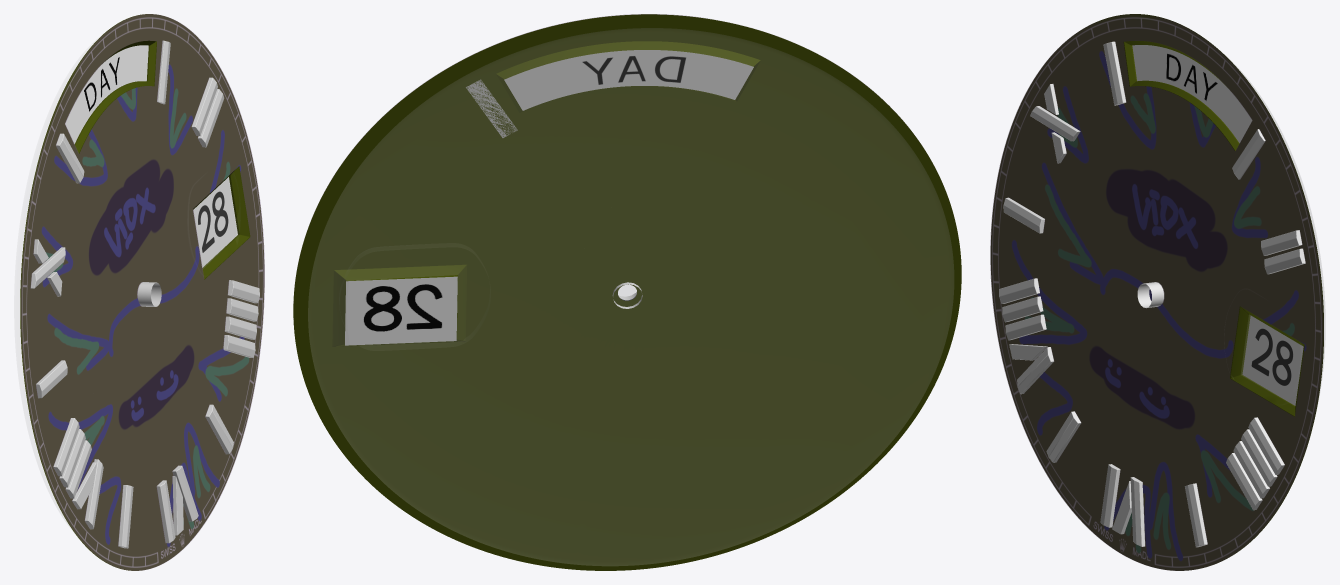
Rendered from vioxDial.glb.
The picture shows the model from 3 angles, left to right: view 1: azimuth 30°, elevation 25°; view 2: azimuth 150°, elevation 25°; view 3: azimuth 270°, elevation 25°; orthographic projection. The views are drawn at different scales.
Parts seen in each view (by area): view 1: tablo_logo_32.001, tablo_2.001, numbers_1.001, glass_11, tablo_monday_13.001, tablo_28_14.001, arrow_cylinder_6.001; view 2: tablo_2.001, glass_11, tablo_monday_13.001, tablo_28_14.001, numbers_1.001; view 3: tablo_logo_32.001, tablo_2.001, numbers_1.001, tablo_monday_13.001, glass_11, tablo_28_14.001, arrow_cylinder_6.001.
Part boxes in pixels (box(x1,y1,x2,y2)): tablo_logo_32.001: box(20, 14, 264, 570); tablo_2.001: box(20, 14, 264, 570); numbers_1.001: box(30, 40, 259, 548); glass_11: box(14, 36, 235, 530); tablo_monday_13.001: box(65, 45, 148, 144); tablo_28_14.001: box(193, 177, 237, 267); arrow_cylinder_6.001: box(137, 282, 161, 306); tablo_2.001: box(293, 14, 961, 570); glass_11: box(308, 28, 953, 565); tablo_monday_13.001: box(504, 50, 753, 110); tablo_28_14.001: box(345, 276, 457, 345); numbers_1.001: box(466, 79, 517, 137); tablo_logo_32.001: box(990, 14, 1323, 570); tablo_2.001: box(990, 14, 1323, 570); numbers_1.001: box(999, 41, 1305, 547); tablo_monday_13.001: box(1132, 45, 1252, 143); glass_11: box(1233, 63, 1325, 404); tablo_28_14.001: box(1242, 315, 1303, 405); arrow_cylinder_6.001: box(1137, 282, 1164, 308).
Bounding box in the file's own units: 0.019 × 0.0228 × 0.0139.
Materials: 8 (3 with a texture image).
